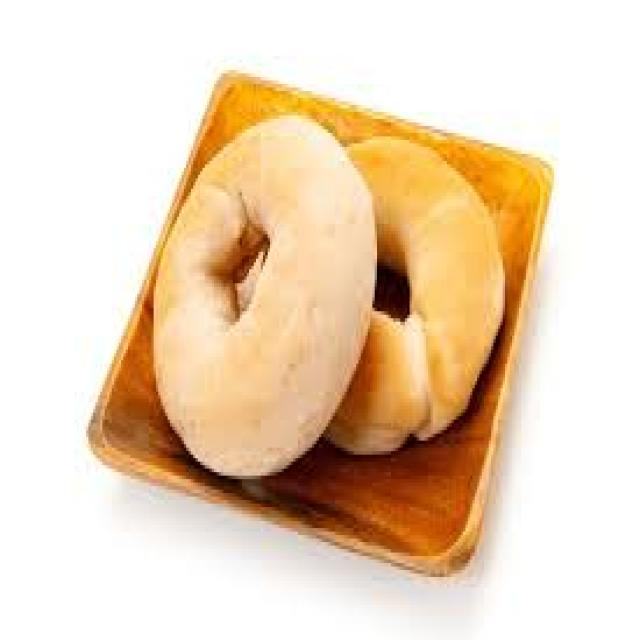Bagel: (154, 118, 373, 476), (326, 139, 504, 454)
